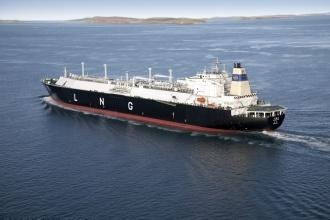Cargoship: (42, 58, 290, 136)
